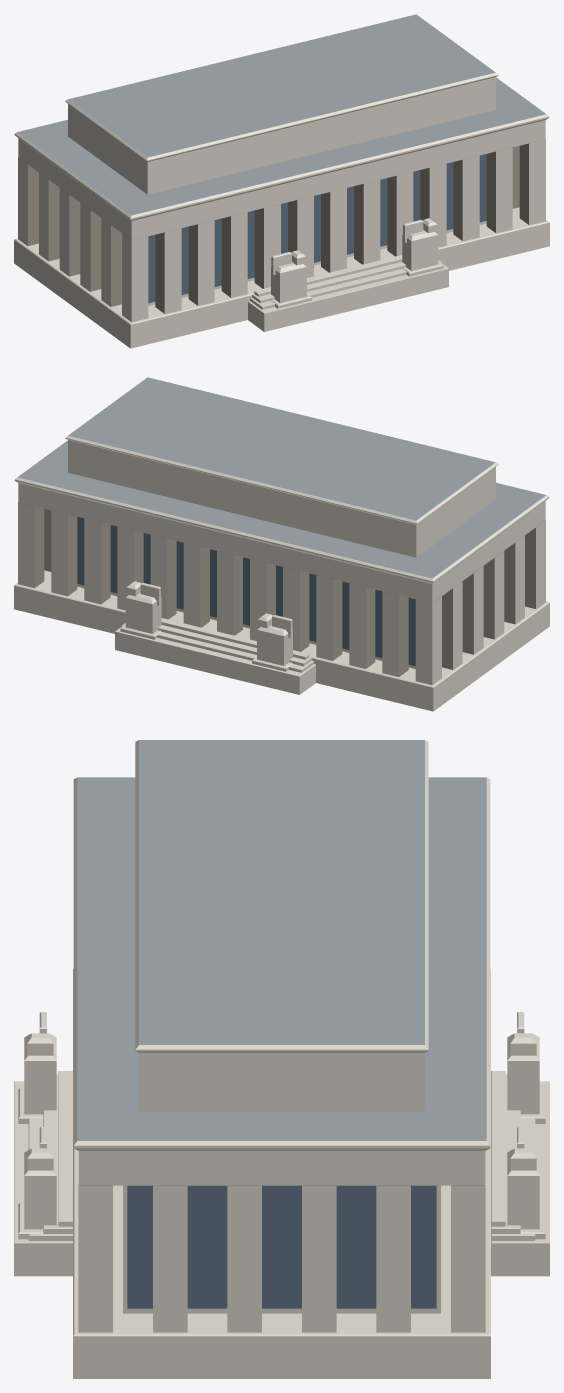
Rendered from stl-soldiers-memorial.glb.
The picture shows the model from 3 angles, top to bottom: view 1: azimuth 30°, elevation 25°; view 2: azimuth 150°, elevation 25°; view 3: azimuth 270°, elevation 25°; orthographic projection. The views are drawn at different scales.
Parts seen in each view (by area): view 1: Soldiers Memorial; view 2: Soldiers Memorial; view 3: Soldiers Memorial.
Part boxes in pixels (x1,y1,x2,y2): Soldiers Memorial: [14, 14, 549, 348]; Soldiers Memorial: [14, 377, 549, 711]; Soldiers Memorial: [14, 740, 549, 1378].
Bounding box in the file's own units: 59 × 22.7 × 36.4.
